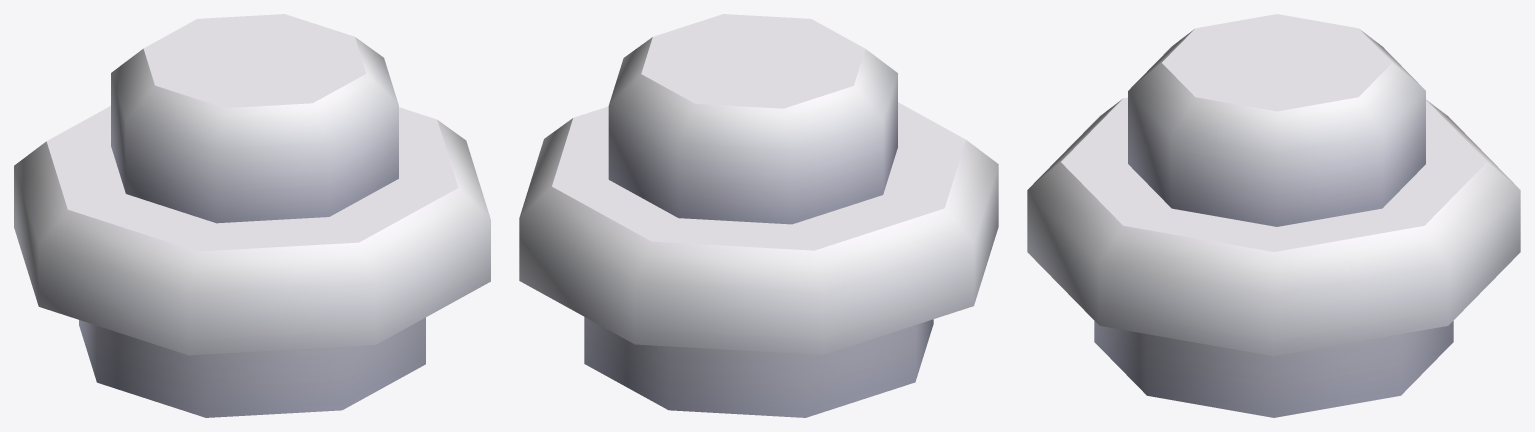
File: kenney-brick-bevel-hq-plate-1-x-1-round.glb
3 renders of one model, left to right at view 1: azimuth 30°, elevation 25°; view 2: azimuth 150°, elevation 25°; view 3: azimuth 270°, elevation 25°, orthographic.
Parts seen in each view (by area): view 1: bevel-hq-plate-1x1-round; view 2: bevel-hq-plate-1x1-round; view 3: bevel-hq-plate-1x1-round.
Part boxes in pixels (x1,y1,x2,y2): bevel-hq-plate-1x1-round: [14, 14, 490, 417]; bevel-hq-plate-1x1-round: [519, 14, 998, 417]; bevel-hq-plate-1x1-round: [1027, 14, 1520, 417].
Bounding box in the file's own units: 0.0795 × 0.05 × 0.0795.
1 material, 1 textured.
